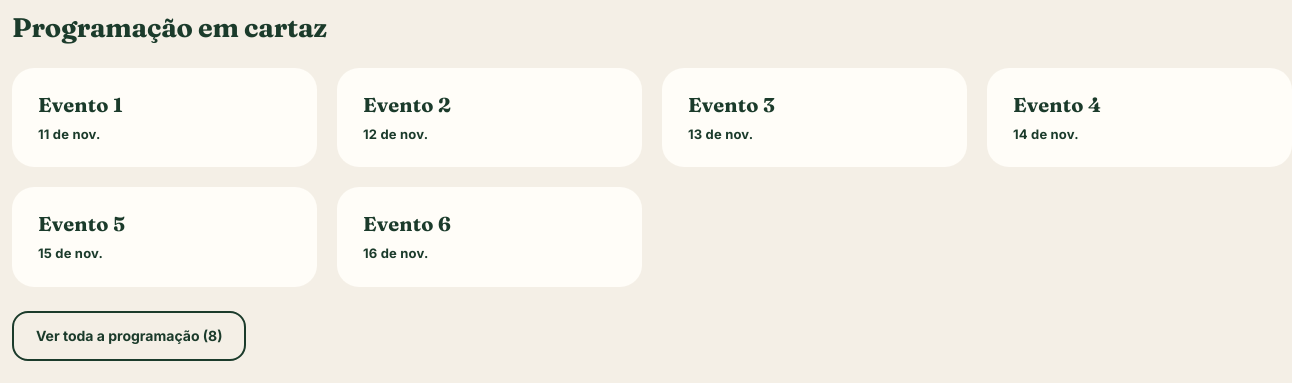
EventList › mostra os 6 primeiros e expande para a programação completa
Check: the number of list items is 6, box [12,68,317,168]; [337,68,642,168]; [662,68,967,168]; [987,68,1291,168]; [12,187,317,287]; [337,187,642,287]
Click the button "Ver toda a programação (8)" at (129, 336), box [12,311,246,361]
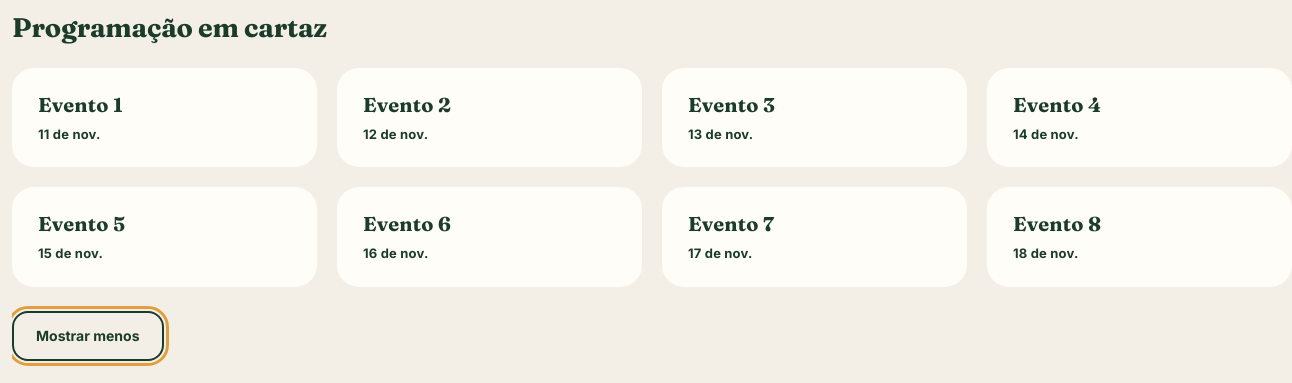
Check: the number of list items is 8
Check: the button "Mostrar menos" is expanded, box [12,311,164,361]
